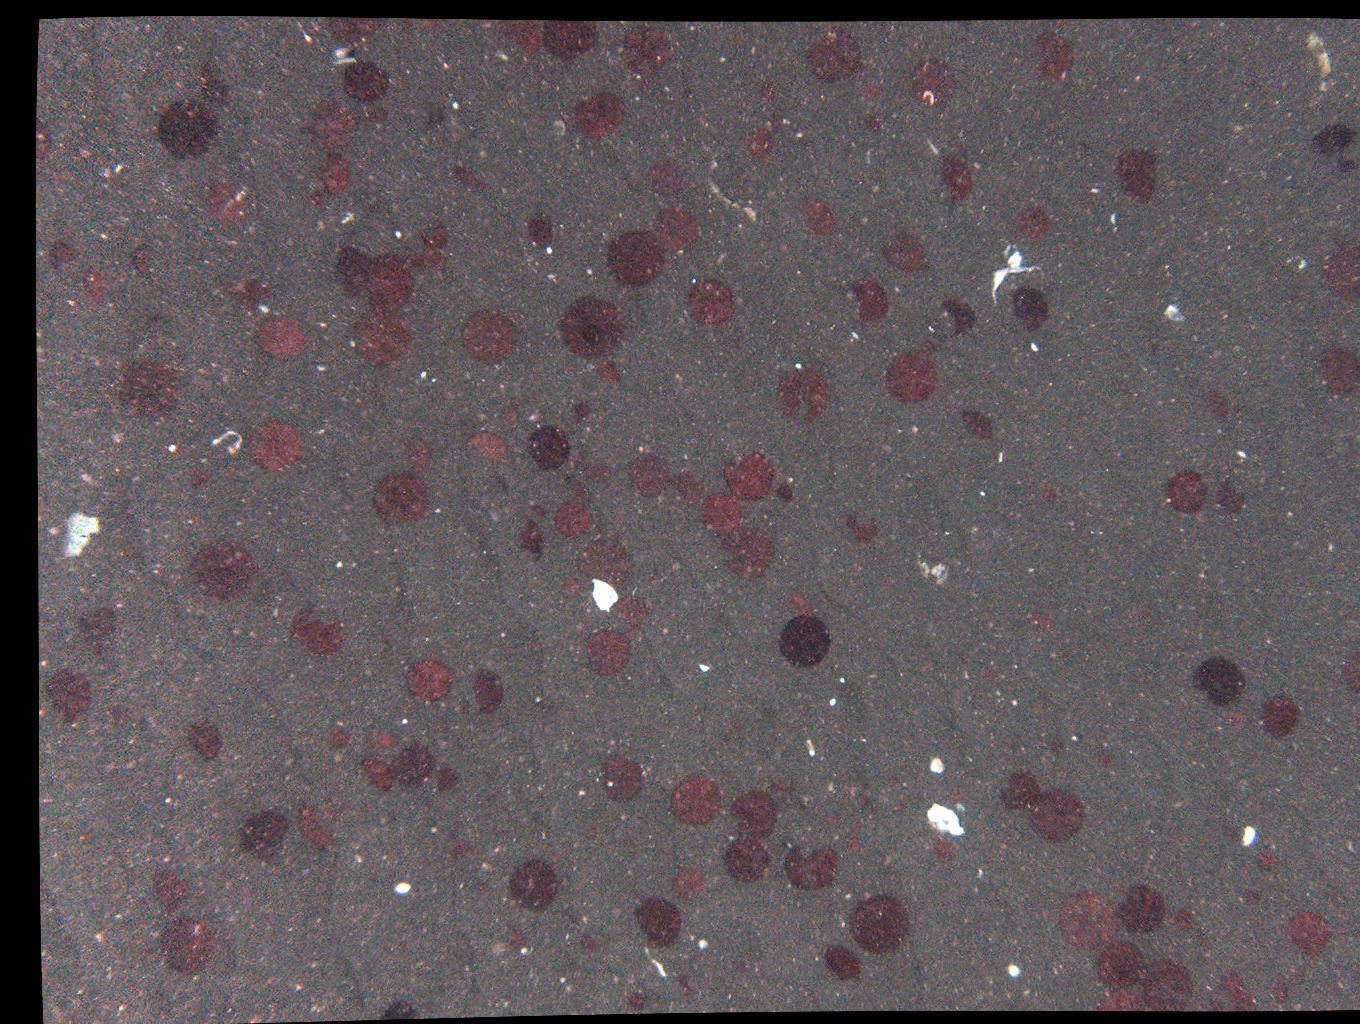Small shell hash: (81, 37, 106, 55)
Substrate A: (80, 65, 103, 83)
sand dollar: (190, 538, 258, 608), (125, 355, 190, 425), (848, 895, 915, 954), (154, 99, 217, 159), (774, 366, 835, 423), (803, 35, 864, 93), (561, 294, 622, 351), (455, 312, 516, 369), (540, 19, 601, 76), (337, 52, 398, 109), (255, 313, 316, 370), (185, 181, 246, 238), (359, 304, 420, 361), (325, 241, 386, 298), (571, 88, 632, 145), (304, 93, 366, 150), (606, 232, 667, 289), (621, 35, 682, 93), (377, 251, 438, 308), (695, 490, 750, 545), (1108, 151, 1163, 205), (1154, 460, 1209, 514), (726, 447, 781, 501), (881, 358, 935, 412), (1008, 283, 1063, 337), (933, 289, 988, 343), (928, 153, 983, 207), (1036, 35, 1091, 89), (1305, 343, 1360, 397), (1305, 247, 1360, 301), (1303, 125, 1358, 179), (1194, 654, 1249, 708), (1249, 689, 1304, 743), (782, 835, 836, 888), (164, 921, 219, 975), (466, 662, 520, 715), (905, 58, 958, 114), (879, 232, 933, 286), (519, 421, 573, 474), (1279, 904, 1333, 957), (241, 807, 295, 861), (513, 862, 567, 915), (290, 607, 344, 660), (781, 615, 835, 668), (640, 900, 695, 953), (1098, 939, 1153, 992), (718, 525, 772, 578), (630, 453, 684, 506), (578, 541, 632, 594), (664, 774, 718, 827), (729, 788, 783, 841), (1148, 959, 1202, 1012), (1207, 956, 1261, 1009), (1117, 884, 1171, 937), (1031, 790, 1085, 842), (988, 769, 1042, 822), (143, 871, 197, 924), (48, 670, 102, 723), (90, 602, 144, 655), (403, 652, 457, 705), (598, 756, 652, 809), (578, 624, 632, 677), (373, 473, 427, 526), (248, 425, 302, 478), (686, 278, 741, 328), (1066, 894, 1116, 950), (490, 19, 543, 69), (845, 275, 894, 326), (722, 842, 771, 893), (650, 207, 703, 252), (328, 16, 385, 55), (824, 943, 868, 987), (1213, 472, 1254, 518), (552, 499, 595, 542), (959, 402, 1001, 445), (663, 869, 711, 906), (1198, 387, 1237, 429), (358, 754, 397, 796), (301, 802, 340, 844), (391, 743, 430, 785), (189, 719, 228, 760), (525, 210, 562, 248), (424, 210, 461, 248), (796, 199, 833, 237), (757, 71, 794, 109), (454, 156, 491, 194), (397, 437, 434, 474), (855, 72, 892, 110), (732, 124, 769, 162), (649, 153, 686, 191), (71, 266, 108, 304), (361, 108, 398, 146), (42, 236, 78, 274), (423, 237, 459, 275), (1334, 645, 1360, 700), (466, 428, 502, 466), (129, 242, 166, 280), (317, 156, 354, 194), (234, 274, 271, 312), (859, 101, 896, 139), (1017, 201, 1054, 239), (32, 120, 61, 168), (574, 457, 611, 493), (518, 522, 553, 558), (385, 995, 431, 1022), (1025, 485, 1059, 517), (839, 512, 873, 544), (611, 596, 645, 628), (672, 472, 706, 504), (771, 478, 805, 510), (559, 571, 593, 603), (1023, 609, 1057, 641), (615, 992, 648, 1024), (331, 716, 366, 748), (568, 402, 602, 433), (782, 589, 816, 621), (1100, 986, 1145, 1010), (599, 356, 632, 387), (444, 763, 477, 794), (436, 833, 470, 864), (503, 931, 536, 963), (568, 928, 601, 959), (1232, 883, 1265, 914), (1090, 735, 1123, 766), (1041, 728, 1074, 759), (772, 772, 805, 803), (840, 824, 873, 855), (922, 823, 953, 857), (361, 722, 393, 753), (1278, 969, 1311, 1000), (1172, 904, 1205, 934), (1252, 847, 1285, 877)
